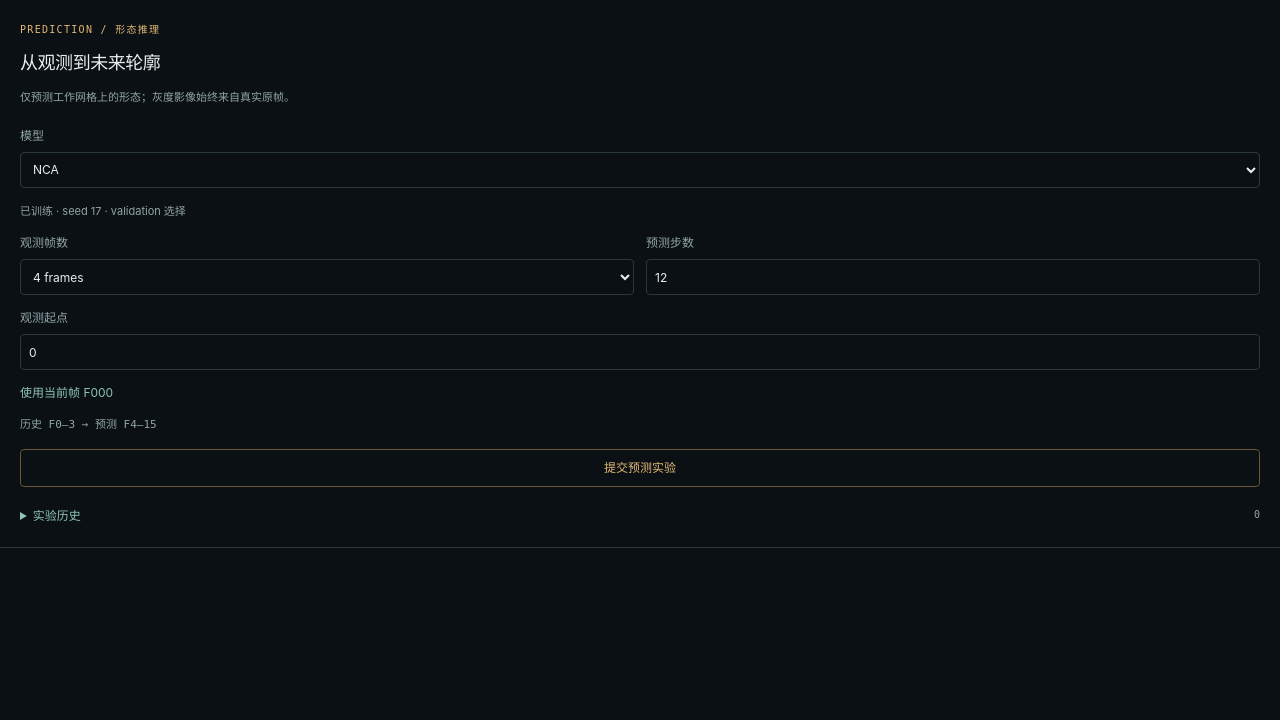
shows an actual submission failure without fabricating a result
Click the button "提交预测实验".
click(640, 468)  # box [20,449,1260,487]
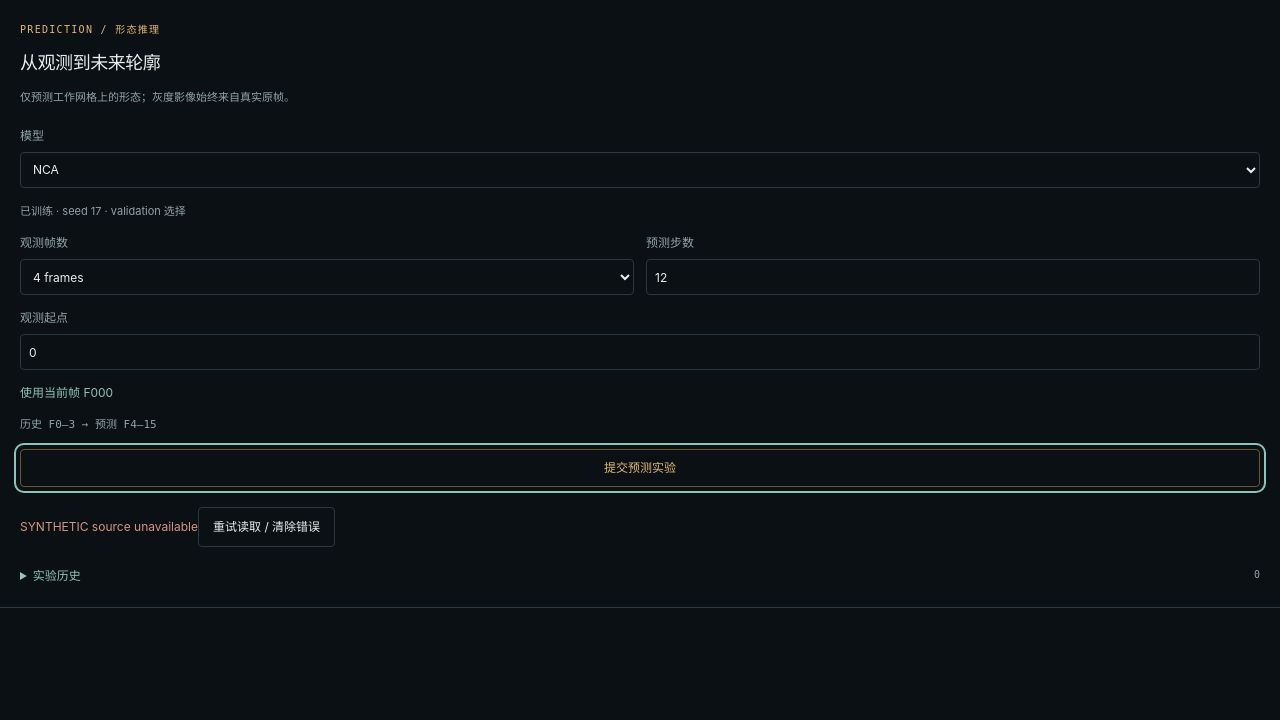
Check: the message shows "SYNTHETIC source unavailable", box [20,519,198,534]
